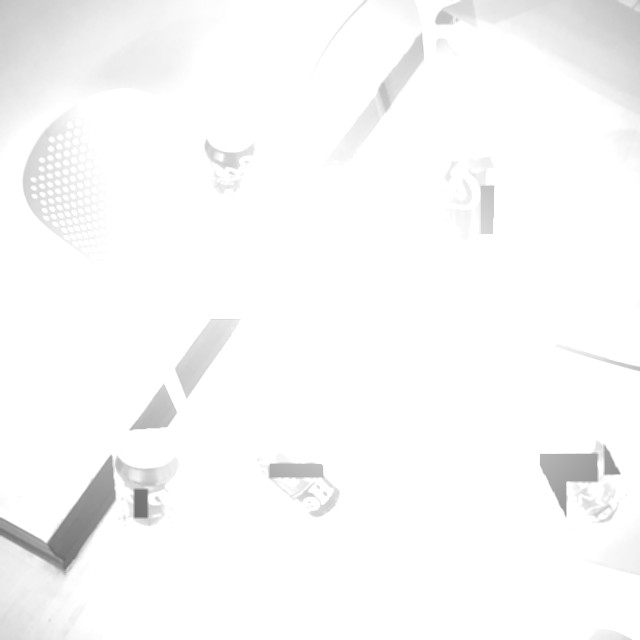coca cola: (436, 146, 500, 266), (203, 116, 258, 197)
heineken: (530, 414, 640, 544), (248, 426, 346, 523)
pepsi: (429, 252, 581, 368)
sprite: (111, 428, 184, 528)
